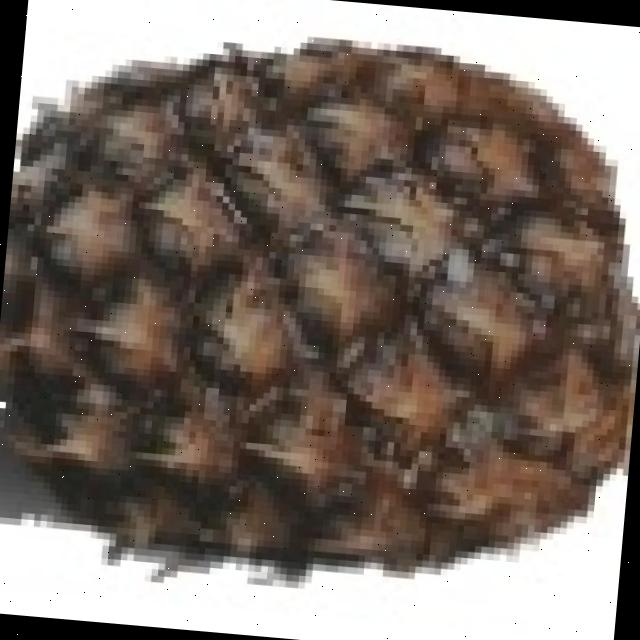pineapple: (0, 40, 640, 579)
